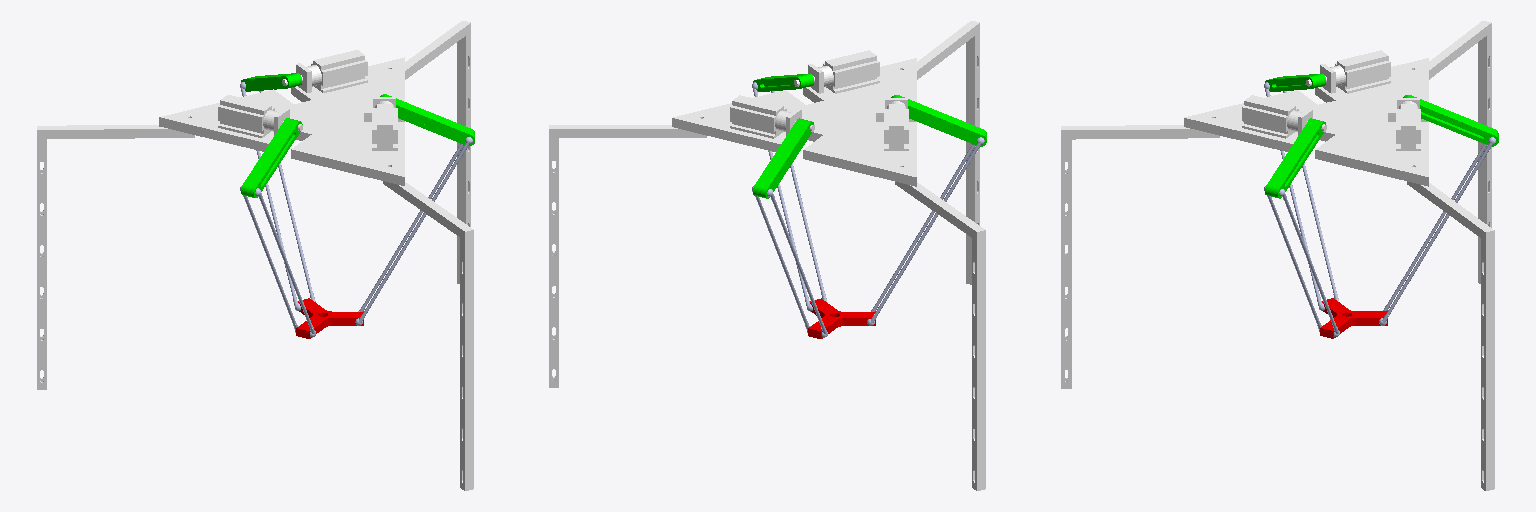
URDF robot description (delta_robot):
<?xml version="1.0" encoding="utf-8"?>
<!-- This URDF was automatically created by SolidWorks to URDF Exporter! Originally created by [author] ([email redacted]) 
     Commit Version: 1.6.0-4-g7f85cfe  Build Version: 1.6.7995.38578
     For more information, please see http://wiki.ros.org/sw_urdf_exporter -->
<robot
  name="delta_robot">
  <link
    name="base_link">
    <inertial>
      <origin
        xyz="0.00014196 -0.00026933 -0.03315"
        rpy="0 0 0" />
      <mass
        value="2.771" />
      <inertia
        ixx="0.038177"
        ixy="1.394E-05"
        ixz="1.7431E-05"
        iyy="0.038226"
        iyz="-2.8368E-05"
        izz="0.042063" />
    </inertial>
    <visual>
      <origin
        xyz="0 0 0"
        rpy="0 0 0" />
      <geometry>
        <mesh
          filename="package://delta_robot/meshes/base_link.STL" />
      </geometry>
      <material
        name="">
        <color
          rgba="1 1 1 1" />
      </material>
    </visual>
    <collision>
      <origin
        xyz="0 0 0"
        rpy="0 0 0" />
      <geometry>
        <mesh
          filename="package://delta_robot/meshes/base_link.STL" />
      </geometry>
    </collision>
  </link>
  <link
    name="upper_arm_link_1">
    <inertial>
      <origin
        xyz="0.0923874896548084 -2.12330153459561E-14 -0.0208181086815596"
        rpy="0 0 0" />
      <mass
        value="0.133017254137551" />
      <inertia
        ixx="1.70157543126595E-05"
        ixy="-1.99052742604761E-20"
        ixz="-2.59812761058086E-07"
        iyy="0.000441362179442446"
        iyz="7.45388993583784E-20"
        izz="0.000439336824073213" />
    </inertial>
    <visual>
      <origin
        xyz="0 0 0"
        rpy="0 0 0" />
      <geometry>
        <mesh
          filename="package://delta_robot/meshes/upper_arm_link_1.STL" />
      </geometry>
      <material
        name="">
        <color
          rgba="0 1 0 1" />
      </material>
    </visual>
    <collision>
      <origin
        xyz="0 0 0"
        rpy="0 0 0" />
      <geometry>
        <mesh
          filename="package://delta_robot/meshes/upper_arm_link_1.STL" />
      </geometry>
    </collision>
  </link>
  <joint
    name="upper_arm_joint_1"
    type="revolute">
    <origin
      xyz="0.11406 -0.04276 0.03"
      rpy="-1.5708 0.42008 -0.5236" />
    <parent
      link="base_link" />
    <child
      link="upper_arm_link_1" />
    <axis
      xyz="0 0 -1" />
    <limit
      lower="0"
      upper="0"
      effort="0"
      velocity="0" />
  </joint>
  <link
    name="lower_arm_link_1">
    <inertial>
      <origin
        xyz="0.223 2.9352E-10 -0.015"
        rpy="0 0 0" />
      <mass
        value="0.038018" />
      <inertia
        ixx="3.2725E-07"
        ixy="1.8909E-13"
        ixz="-8.799E-14"
        iyy="0.00044244"
        iyz="-1.7594E-13"
        izz="0.00044243" />
    </inertial>
    <visual>
      <origin
        xyz="0 0 0"
        rpy="0 0 0" />
      <geometry>
        <mesh
          filename="package://delta_robot/meshes/lower_arm_link_1.STL" />
      </geometry>
      <material
        name="">
        <color
          rgba="0.79216 0.81961 0.93333 1" />
      </material>
    </visual>
    <collision>
      <origin
        xyz="0 0 0"
        rpy="0 0 0" />
      <geometry>
        <mesh
          filename="package://delta_robot/meshes/lower_arm_link_1.STL" />
      </geometry>
    </collision>
  </link>
  <joint
    name="lower_arm_joint_1"
    type="revolute">
    <origin
      xyz="0.18 0 -0.005"
      rpy="0 0 1.6522" />
    <parent
      link="upper_arm_link_1" />
    <child
      link="lower_arm_link_1" />
    <axis
      xyz="0 0 -1" />
    <limit
      lower="0"
      upper="0"
      effort="0"
      velocity="0" />
  </joint>
  <link
    name="end_effector">
    <inertial>
      <origin
        xyz="-7.21644966006352E-16 -2.38697950294409E-15 -0.00850000000000001"
        rpy="0 0 0" />
      <mass
        value="0.107946728812726" />
      <inertia
        ixx="0.000129759048245812"
        ixy="9.84792772075162E-18"
        ixz="-1.31992983097668E-21"
        iyy="0.000129759048245819"
        iyz="2.65209167129158E-21"
        izz="0.00025418012101626" />
    </inertial>
    <visual>
      <origin
        xyz="0 0 0"
        rpy="0 0 0" />
      <geometry>
        <mesh
          filename="package://delta_robot/meshes/end_effector.STL" />
      </geometry>
      <material
        name="">
        <color
          rgba="1 0 0 1" />
      </material>
    </visual>
    <collision>
      <origin
        xyz="0 0 0"
        rpy="0 0 0" />
      <geometry>
        <mesh
          filename="package://delta_robot/meshes/end_effector.STL" />
      </geometry>
    </collision>
  </link>
  <joint
    name="end_effector_joint"
    type="continuous">
    <origin
      xyz="0.47225 0.065561 -0.015"
      rpy="1.5708 0.5236 -2.0723" />
    <parent
      link="lower_arm_link_1" />
    <child
      link="end_effector" />
    <axis
      xyz="0 0 1" />
  </joint>
  <link
    name="upper_arm_link_2">
    <inertial>
      <origin
        xyz="0.0923874896548223 -2.68188249386014E-15 -0.0208181086815595"
        rpy="0 0 0" />
      <mass
        value="0.133017254137551" />
      <inertia
        ixx="1.70157543126596E-05"
        ixy="-6.60685698858354E-20"
        ixz="-2.59812761058044E-07"
        iyy="0.000441362179442447"
        iyz="-3.40136667881805E-21"
        izz="0.000439336824073214" />
    </inertial>
    <visual>
      <origin
        xyz="0 0 0"
        rpy="0 0 0" />
      <geometry>
        <mesh
          filename="package://delta_robot/meshes/upper_arm_link_2.STL" />
      </geometry>
      <material
        name="">
        <color
          rgba="0 1 0 1" />
      </material>
    </visual>
    <collision>
      <origin
        xyz="0 0 0"
        rpy="0 0 0" />
      <geometry>
        <mesh
          filename="package://delta_robot/meshes/upper_arm_link_2.STL" />
      </geometry>
    </collision>
  </link>
  <joint
    name="upper_arm_joint_2"
    type="revolute">
    <origin
      xyz="-0.094063 -0.077401 0.03"
      rpy="-1.5708 0.42008 -2.618" />
    <parent
      link="base_link" />
    <child
      link="upper_arm_link_2" />
    <axis
      xyz="0 0 1" />
    <limit
      lower="0"
      upper="0"
      effort="0"
      velocity="0" />
  </joint>
  <link
    name="lower_arm_link_2">
    <inertial>
      <origin
        xyz="0.223000000000005 -1.76247905159244E-15 -0.0149999609746131"
        rpy="0 0 0" />
      <mass
        value="0.0380180837713901" />
      <inertia
        ixx="3.27250223006841E-07"
        ixy="-1.03636258481383E-12"
        ixz="5.18170114466516E-20"
        iyy="0.00044244446413185"
        iyz="2.46258224640994E-23"
        izz="0.000442428410286714" />
    </inertial>
    <visual>
      <origin
        xyz="0 0 0"
        rpy="0 0 0" />
      <geometry>
        <mesh
          filename="package://delta_robot/meshes/lower_arm_link_2.STL" />
      </geometry>
      <material
        name="">
        <color
          rgba="0.792156862745098 0.819607843137255 0.933333333333333 1" />
      </material>
    </visual>
    <collision>
      <origin
        xyz="0 0 0"
        rpy="0 0 0" />
      <geometry>
        <mesh
          filename="package://delta_robot/meshes/lower_arm_link_2.STL" />
      </geometry>
    </collision>
  </link>
  <joint
    name="lower_arm_joint_2"
    type="revolute">
    <origin
      xyz="0.18 0 -0.005"
      rpy="0 0 1.6522" />
    <parent
      link="upper_arm_link_2" />
    <child
      link="lower_arm_link_2" />
    <axis
      xyz="0 0 -1" />
    <limit
      lower="0"
      upper="0"
      effort="0"
      velocity="0" />
  </joint>
  <link
    name="upper_arm_link_3">
    <inertial>
      <origin
        xyz="0.0923874896548211 -3.57353036051222E-16 -0.0191818913184405"
        rpy="0 0 0" />
      <mass
        value="0.133017254137551" />
      <inertia
        ixx="1.70157543126595E-05"
        ixy="4.34104385467829E-21"
        ixz="2.59812761058095E-07"
        iyy="0.000441362179442446"
        iyz="-4.74338450462408E-20"
        izz="0.000439336824073213" />
    </inertial>
    <visual>
      <origin
        xyz="0 0 0"
        rpy="0 0 0" />
      <geometry>
        <mesh
          filename="package://delta_robot/meshes/upper_arm_link_3.STL" />
      </geometry>
      <material
        name="">
        <color
          rgba="0 1 0 1" />
      </material>
    </visual>
    <collision>
      <origin
        xyz="0 0 0"
        rpy="0 0 0" />
      <geometry>
        <mesh
          filename="package://delta_robot/meshes/upper_arm_link_3.STL" />
      </geometry>
    </collision>
  </link>
  <joint
    name="upper_arm_joint_3"
    type="revolute">
    <origin
      xyz="-0.02 0.12016 0.03"
      rpy="-1.5708 0.42008 1.5708" />
    <parent
      link="base_link" />
    <child
      link="upper_arm_link_3" />
    <axis
      xyz="0 0 -1" />
    <limit
      lower="0"
      upper="0"
      effort="0"
      velocity="0" />
  </joint>
  <link
    name="lower_arm_link_3">
    <inertial>
      <origin
        xyz="0.223000025857739 -2.93582130828085E-10 -0.0149999955428095"
        rpy="0 0 0" />
      <mass
        value="0.0380180565208993" />
      <inertia
        ixx="3.27250012575109E-07"
        ixy="1.89072990662788E-13"
        ixz="8.79900566288747E-14"
        iyy="0.000442444463837535"
        iyz="1.75941346994973E-13"
        izz="0.00044242840997536" />
    </inertial>
    <visual>
      <origin
        xyz="0 0 0"
        rpy="0 0 0" />
      <geometry>
        <mesh
          filename="package://delta_robot/meshes/lower_arm_link_3.STL" />
      </geometry>
      <material
        name="">
        <color
          rgba="0.792156862745098 0.819607843137255 0.933333333333333 1" />
      </material>
    </visual>
    <collision>
      <origin
        xyz="0 0 0"
        rpy="0 0 0" />
      <geometry>
        <mesh
          filename="package://delta_robot/meshes/lower_arm_link_3.STL" />
      </geometry>
    </collision>
  </link>
  <joint
    name="lower_arm_joint_3"
    type="revolute">
    <origin
      xyz="0.18 0 -0.005"
      rpy="0 0 1.6522" />
    <parent
      link="upper_arm_link_3" />
    <child
      link="lower_arm_link_3" />
    <axis
      xyz="0 0 1" />
    <limit
      lower="0"
      upper="0"
      effort="0"
      velocity="0" />
  </joint>
</robot>

--- What the picture shows (computed from the rendered views, not written in the file) ---
3 views of the same robot in one strip: view 1: azimuth 30°, elevation 25°; view 2: azimuth 150°, elevation 25°; view 3: azimuth 270°, elevation 25° (orthographic).
Model delta_robot with 8 links and 7 joints (6 revolute, 1 continuous), rooted at base_link, posed all joints at 0.
Links seen in each view (by area): view 1: base_link, upper_arm_link_2, upper_arm_link_1, lower_arm_link_1, end_effector, lower_arm_link_2, lower_arm_link_3, upper_arm_link_3; view 2: base_link, upper_arm_link_3, upper_arm_link_2, lower_arm_link_2, end_effector, lower_arm_link_3, lower_arm_link_1, upper_arm_link_1; view 3: base_link, upper_arm_link_1, upper_arm_link_3, lower_arm_link_3, end_effector, lower_arm_link_1, lower_arm_link_2, upper_arm_link_2.
Link boxes in pixels (x1,y1,x2,y2): base_link: [37, 21, 473, 490]; upper_arm_link_2: [241, 118, 302, 197]; upper_arm_link_1: [380, 94, 474, 145]; lower_arm_link_1: [355, 137, 472, 325]; end_effector: [296, 298, 363, 338]; lower_arm_link_2: [240, 186, 315, 337]; lower_arm_link_3: [240, 82, 315, 310]; upper_arm_link_3: [241, 73, 302, 91]; base_link: [549, 21, 985, 490]; upper_arm_link_3: [753, 118, 813, 198]; upper_arm_link_2: [891, 95, 986, 146]; lower_arm_link_2: [867, 137, 984, 325]; end_effector: [808, 298, 875, 338]; lower_arm_link_3: [752, 186, 827, 337]; lower_arm_link_1: [752, 82, 827, 311]; upper_arm_link_1: [753, 74, 813, 91]; base_link: [1061, 21, 1494, 490]; upper_arm_link_1: [1265, 118, 1325, 198]; upper_arm_link_3: [1403, 95, 1498, 146]; lower_arm_link_3: [1379, 137, 1495, 325]; end_effector: [1320, 298, 1387, 338]; lower_arm_link_1: [1264, 186, 1339, 336]; lower_arm_link_2: [1264, 82, 1338, 310]; upper_arm_link_2: [1265, 73, 1325, 91].
Bounding box of the posed robot: 0.9837 × 0.8576 × 0.635 m (x, y, z).
Meshes: 8 distinct files referenced, 8 mesh visuals loaded (8 binary STL).